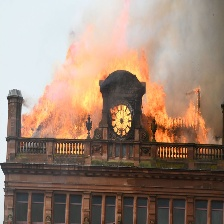fire: (21, 37, 205, 157)
smoke: (148, 1, 221, 121)
